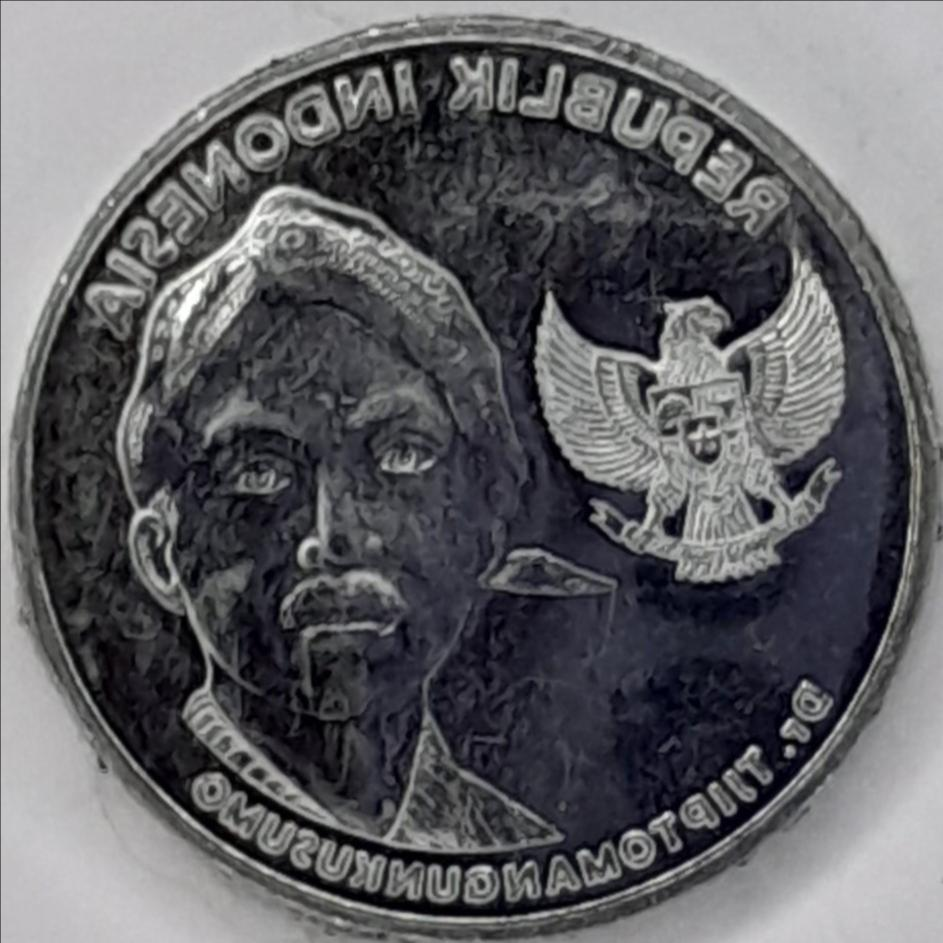coin_200_e2016: (0, 16, 943, 943)
